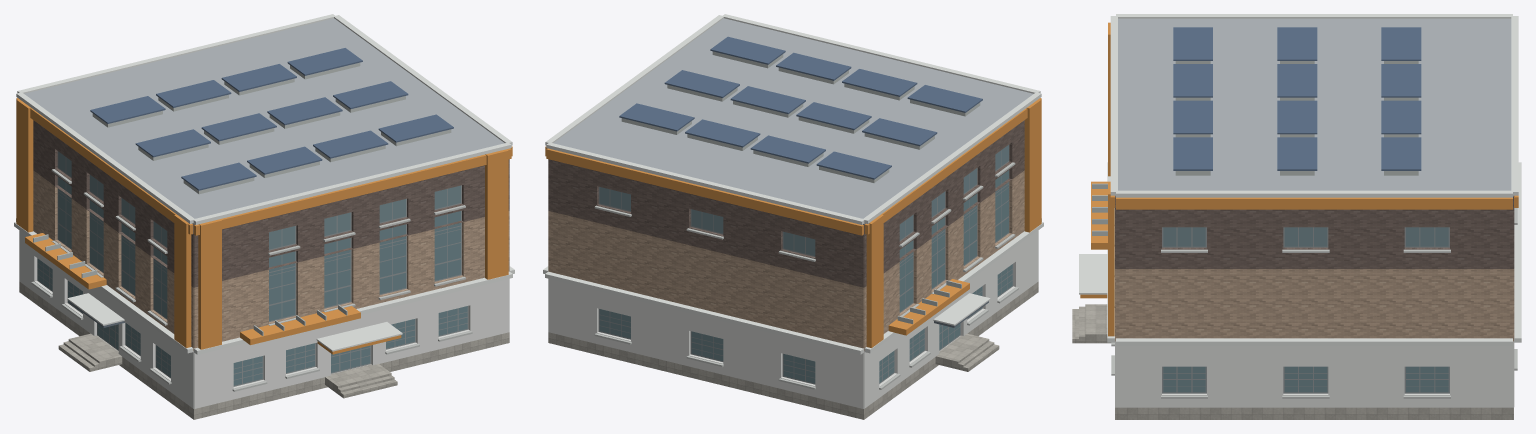
3 renders of one model, left to right at view 1: azimuth 30°, elevation 25°; view 2: azimuth 150°, elevation 25°; view 3: azimuth 270°, elevation 25°, orthographic. The views are drawn at different scales.
Parts seen in each view (by area): view 1: gym-hall__metalroof, gym-hall__orange, gym-hall__panel, gym-hall__darkbrick, gym-hall__buffbrick, gym-hall__glass, gym-hall__solar, gym-hall__cap, gym-hall__frame, gym-hall__stone, gym-hall__steel, gym-hall__clerestoryglass (+5 smaller); view 2: gym-hall__metalroof, gym-hall__buffbrick, gym-hall__panel, gym-hall__darkbrick, gym-hall__solar, gym-hall__orange, gym-hall__cap, gym-hall__glass, gym-hall__stone, gym-hall__steel, gym-hall__frame, gym-hall__clerestoryglass (+3 smaller); view 3: gym-hall__metalroof, gym-hall__buffbrick, gym-hall__darkbrick, gym-hall__panel, gym-hall__solar, gym-hall__cap, gym-hall__orange, gym-hall__stone, gym-hall__glass, gym-hall__clerestoryglass, gym-hall__steel, gym-hall__frame (+3 smaller).
Part boxes in pixels (x1,y1,x2,y2): gym-hall__metalroof: (24, 18, 504, 224); gym-hall__orange: (16, 98, 512, 354); gym-hall__panel: (19, 230, 509, 408); gym-hall__darkbrick: (33, 120, 509, 287); gym-hall__buffbrick: (33, 170, 509, 350); gym-hall__glass: (37, 177, 467, 385); gym-hall__solar: (90, 48, 453, 190); gym-hall__cap: (14, 14, 514, 354); gym-hall__frame: (37, 151, 468, 386); gym-hall__stone: (19, 281, 509, 419); gym-hall__steel: (33, 62, 451, 335); gym-hall__clerestoryglass: (58, 151, 460, 249); gym-hall__metalroof: (553, 18, 1033, 224); gym-hall__buffbrick: (548, 170, 1024, 350); gym-hall__panel: (548, 230, 1038, 408); gym-hall__darkbrick: (548, 120, 1024, 287); gym-hall__solar: (619, 36, 982, 179); gym-hall__orange: (545, 98, 1041, 347); gym-hall__cap: (543, 14, 1043, 354); gym-hall__glass: (599, 170, 1012, 383); gym-hall__stone: (548, 281, 1038, 419); gym-hall__steel: (621, 51, 980, 324); gym-hall__frame: (598, 144, 1013, 384); gym-hall__clerestoryglass: (599, 145, 1008, 255); gym-hall__metalroof: (1115, 18, 1513, 196); gym-hall__buffbrick: (1115, 269, 1514, 341); gym-hall__darkbrick: (1115, 196, 1514, 268); gym-hall__panel: (1115, 341, 1514, 407); gym-hall__solar: (1173, 27, 1421, 170); gym-hall__cap: (1079, 14, 1521, 345); gym-hall__orange: (1080, 22, 1518, 336); gym-hall__stone: (1115, 407, 1513, 419); gym-hall__glass: (1163, 366, 1448, 392); gym-hall__clerestoryglass: (1163, 227, 1448, 246); gym-hall__steel: (1092, 61, 1418, 235); gym-hall__frame: (1162, 227, 1449, 393).
Bounding box in the file's own units: 26.91 × 14.86 × 25.91.
15 materials, 3 textured.
